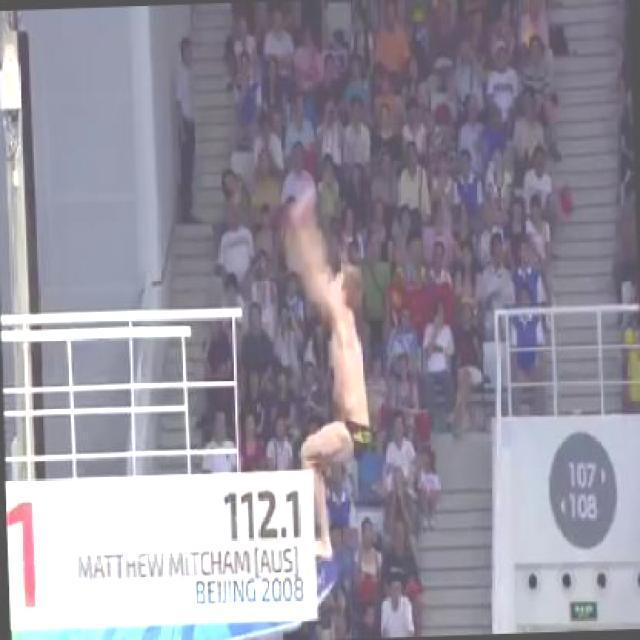non-fight: (289, 191, 374, 560)
